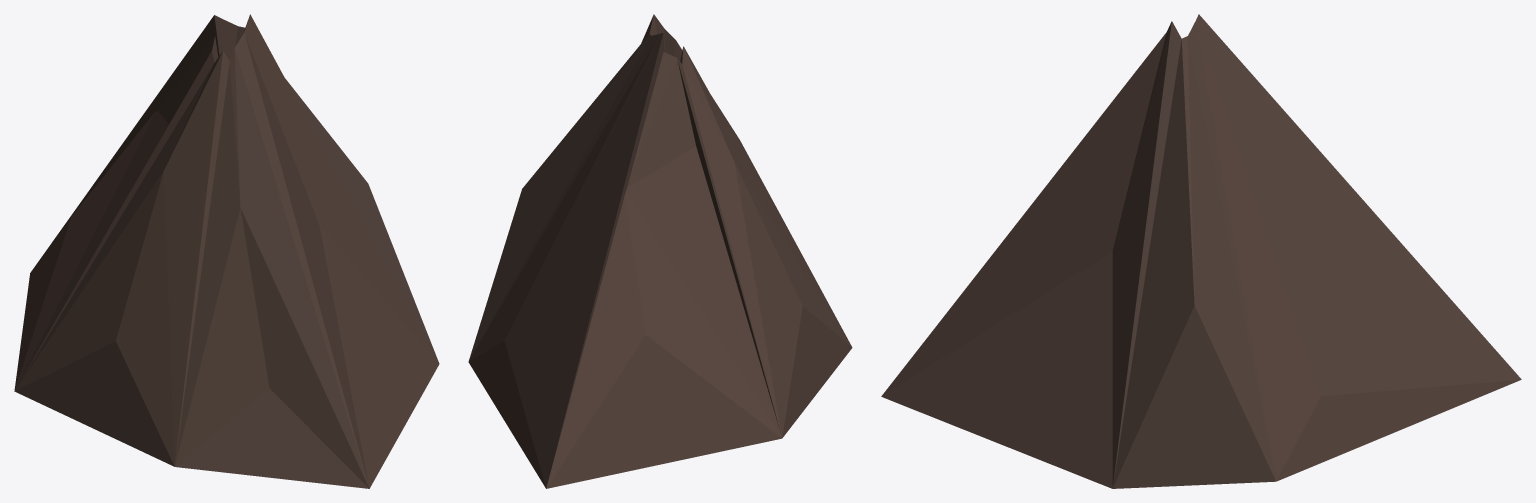
File: vulkan.fbx
3 views of the same model, side by side, from view 1: azimuth 30°, elevation 25°; view 2: azimuth 150°, elevation 25°; view 3: azimuth 270°, elevation 25° (orthographic). The views are drawn at different scales.
Parts seen in each view (by area): view 1: Vulkan; view 2: Vulkan; view 3: Vulkan.
Boxes of the visible parts, x1,y1,x2,y2 form: Vulkan: (14, 14, 439, 488); Vulkan: (468, 14, 852, 488); Vulkan: (881, 14, 1521, 488).
Bounding box in the file's own units: 216 × 219 × 330.
1 material, 1 textured.
